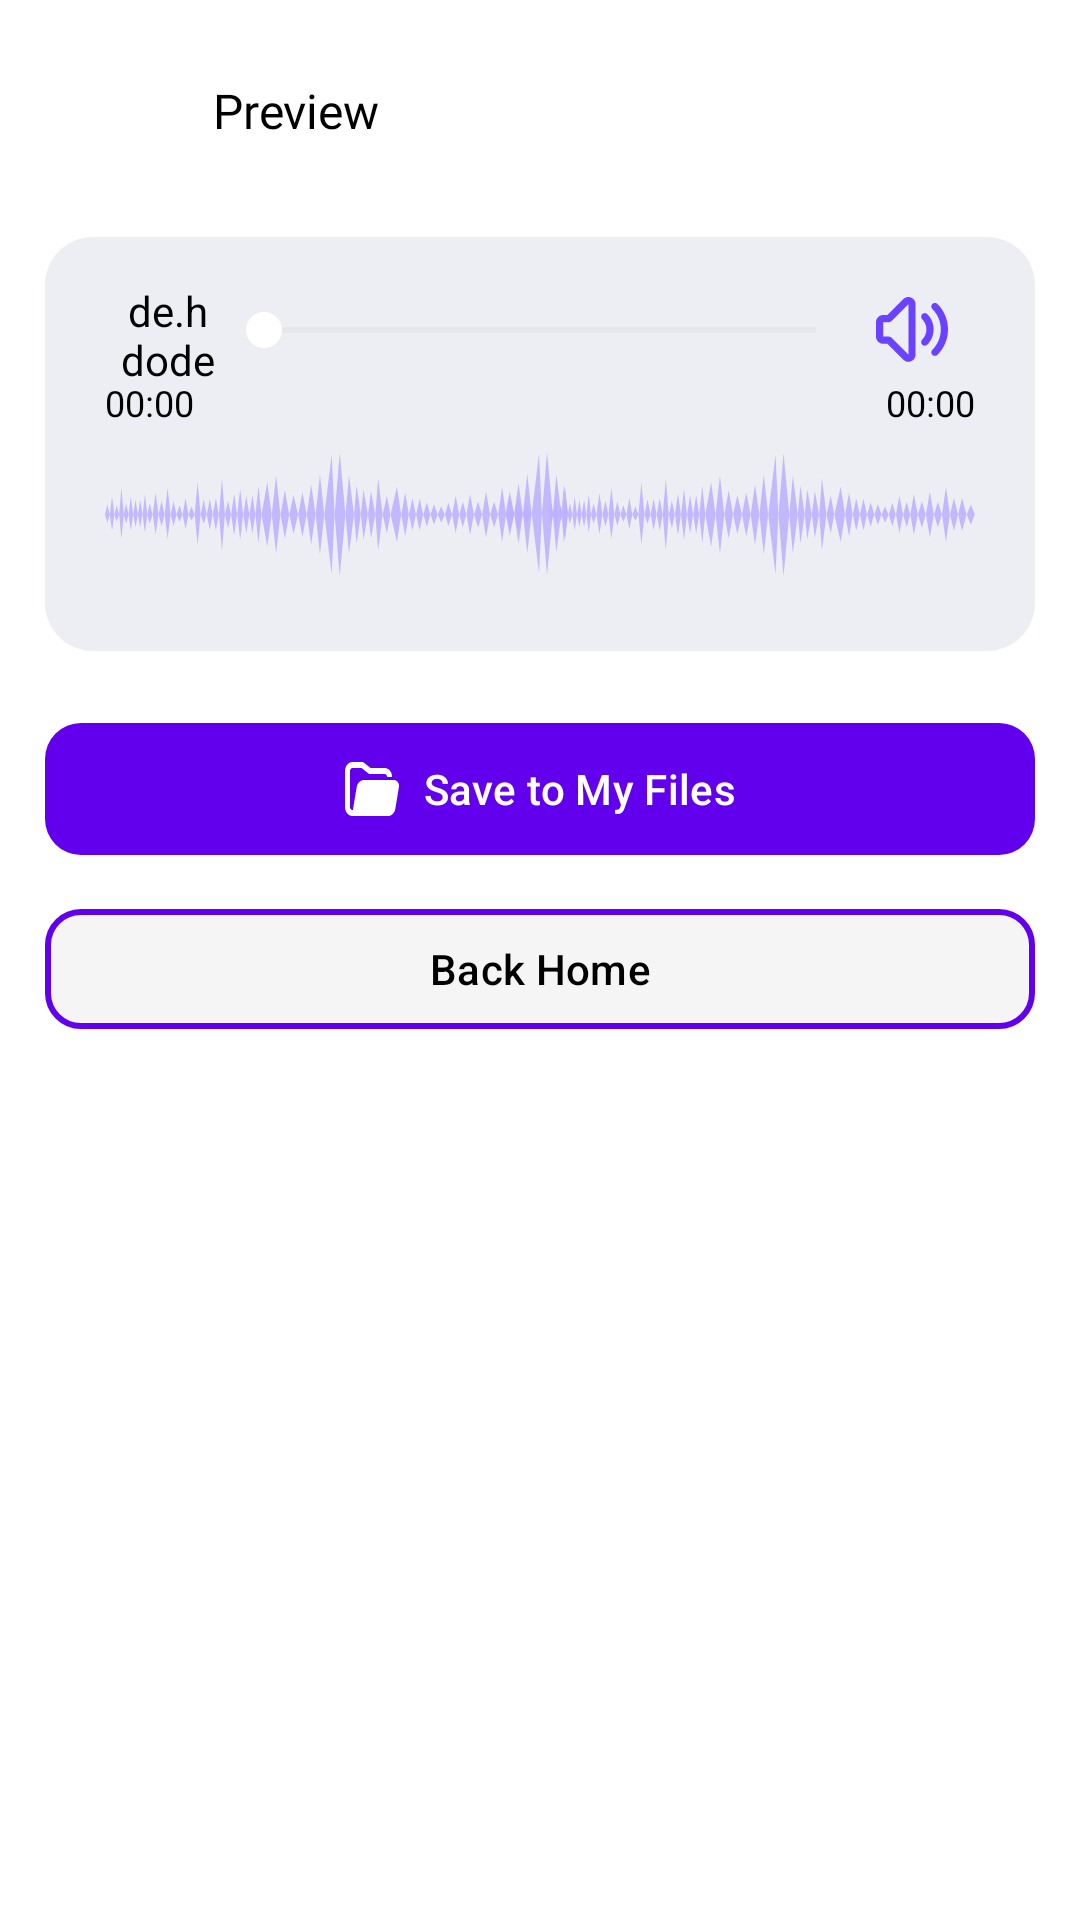

Icon click points for this 1080*1920 phone screenshot, format (x,y):
volumebutton: (912,329)
